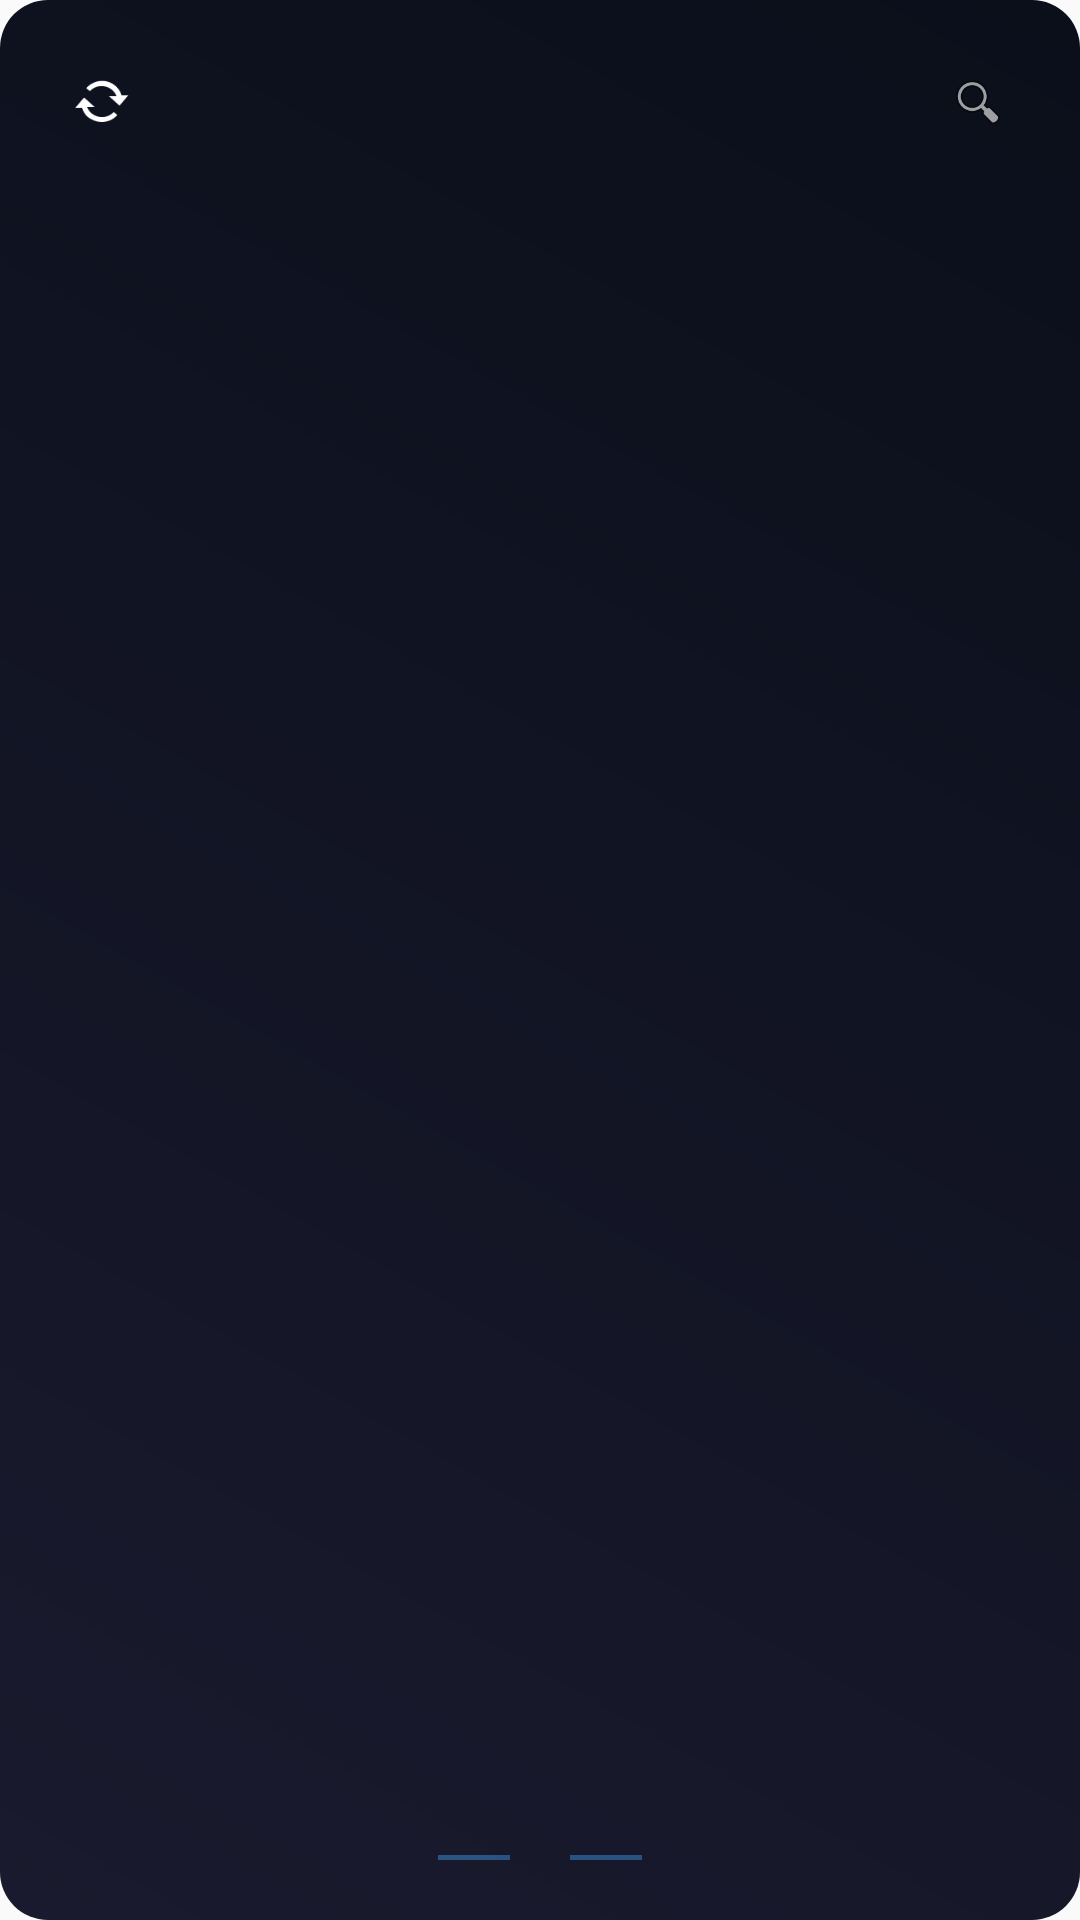

Icons on this 1080w x 1920h Android screen, each with the point to tap as (x=x, y=y):
Refresh: (x=101, y=101)
